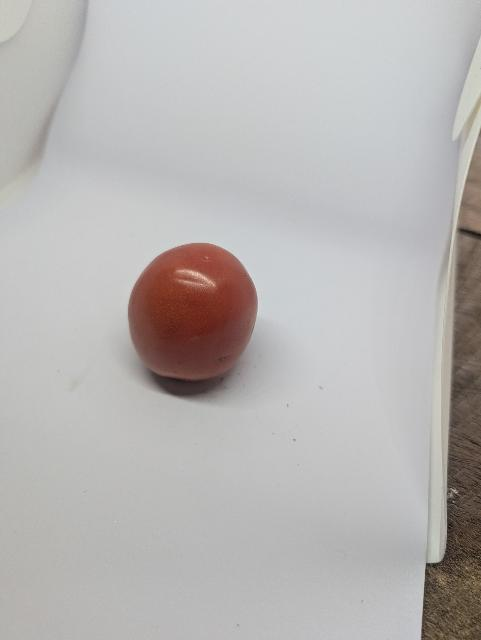red: (124, 237, 270, 401)
